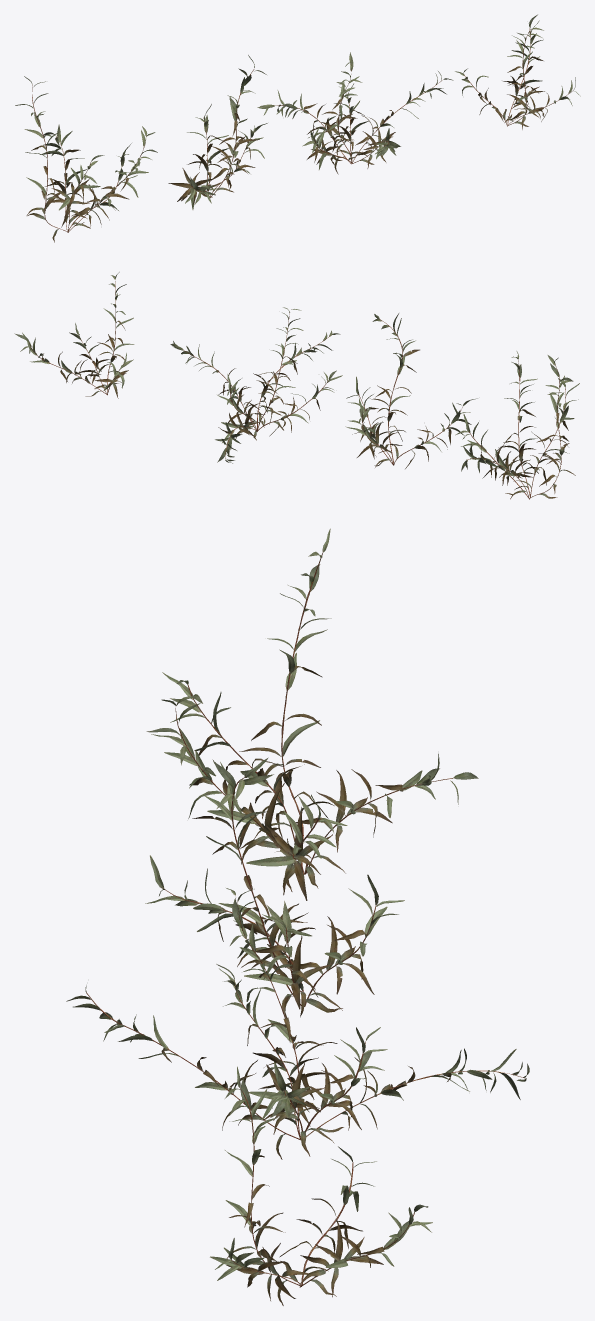
Rendered from shrub_02.glb.
3 renders of one model, top to bottom at view 1: azimuth 30°, elevation 25°; view 2: azimuth 150°, elevation 25°; view 3: azimuth 270°, elevation 25°, orthographic. The views are drawn at different scales.
Parts seen in each view (by area): view 1: shrub_02_a; view 2: shrub_02_a; view 3: shrub_02_a.
Part boxes in pixels (left/top/right/bottom): shrub_02_a: left=15, top=14, right=580, bottom=242; shrub_02_a: left=14, top=272, right=579, bottom=499; shrub_02_a: left=66, top=528, right=529, bottom=1305.
Size of the model in its own units: 6.05 by 1.7 by 2.29.
1 material, 1 textured.
